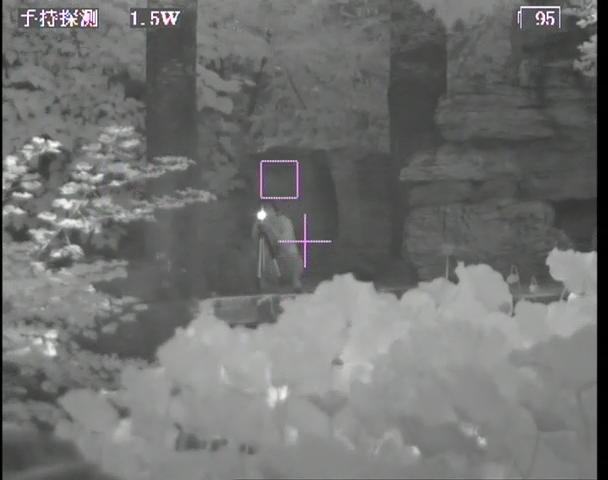my: (255, 208, 269, 224)
